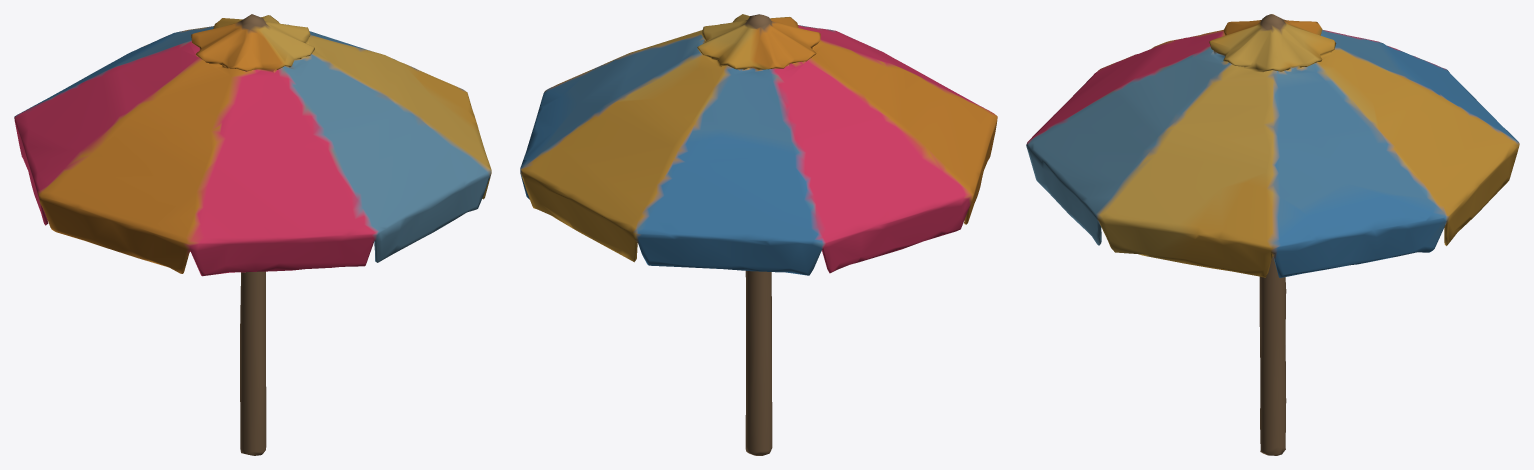
Rendered from gen3d-beach-umbrella-lod0.glb.
The picture shows the model from 3 angles, left to right: view 1: azimuth 30°, elevation 25°; view 2: azimuth 150°, elevation 25°; view 3: azimuth 270°, elevation 25°; orthographic projection.
Visible parts, largest first — view 1: part_0; view 2: part_0; view 3: part_0.
Boxes of the visible parts, <box> form: part_0: <box>14,14,491,455</box>; part_0: <box>520,14,997,455</box>; part_0: <box>1026,14,1519,455</box>.
Bounding box in the file's own units: 1.03 × 0.9991 × 1.03.
